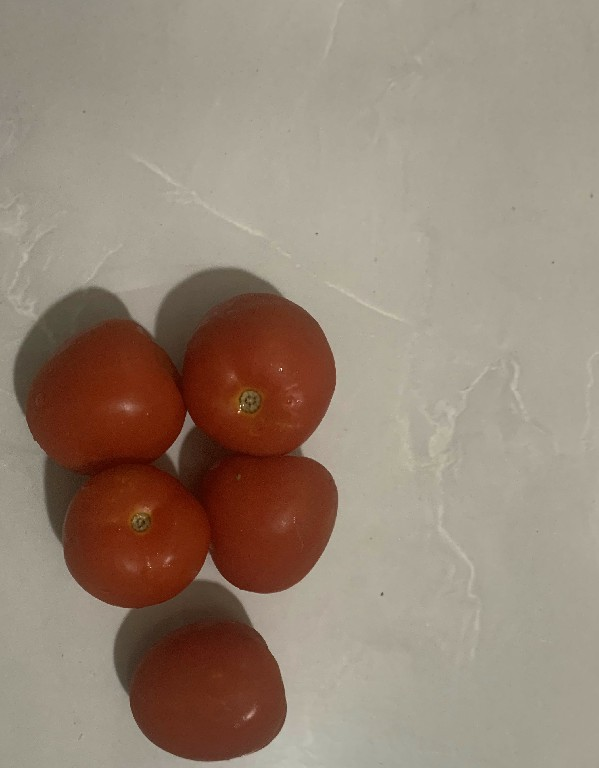OK: (20, 312, 188, 467), (186, 294, 339, 447), (121, 623, 292, 756), (61, 459, 206, 612), (200, 448, 339, 600)
